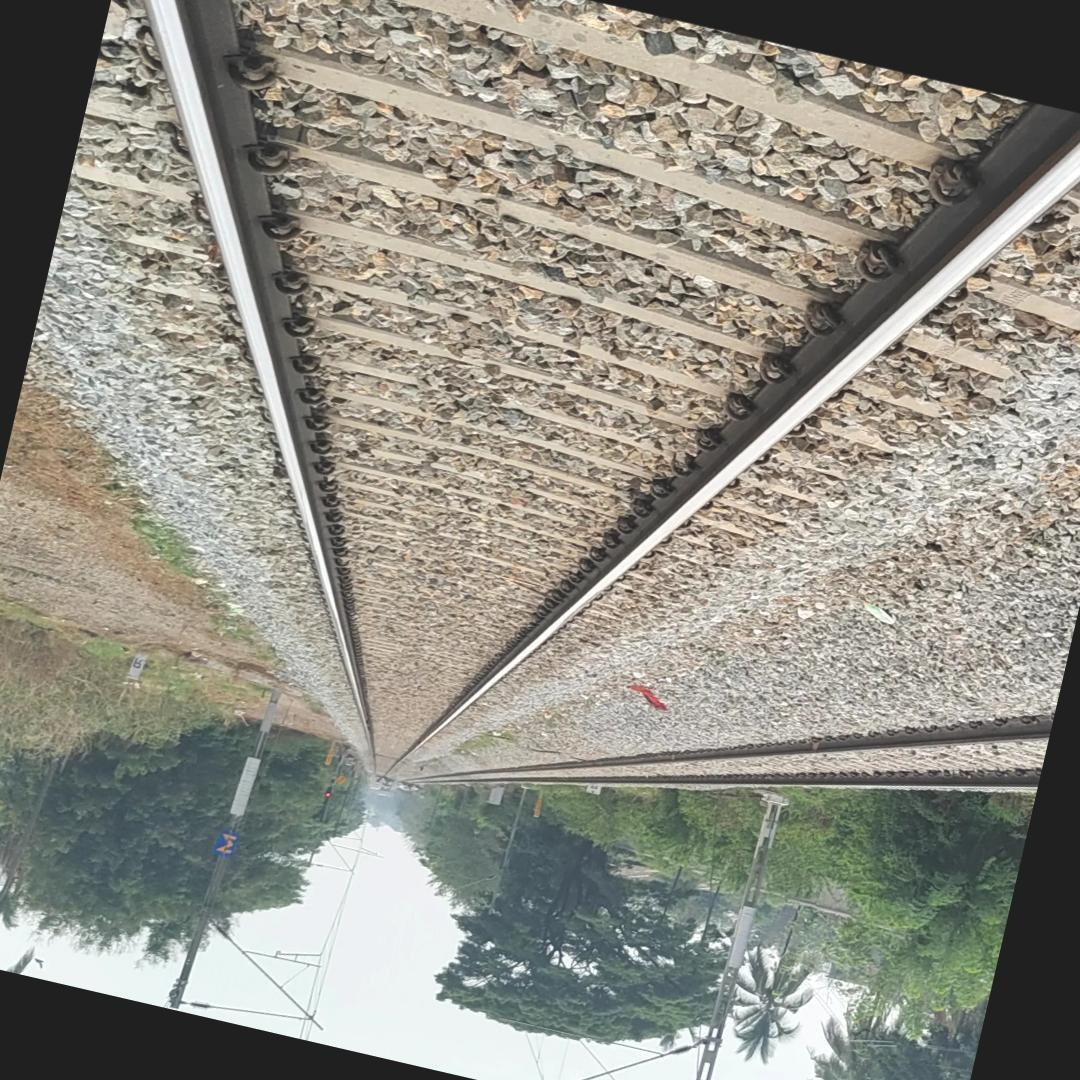track: (125, 0, 1080, 803)
